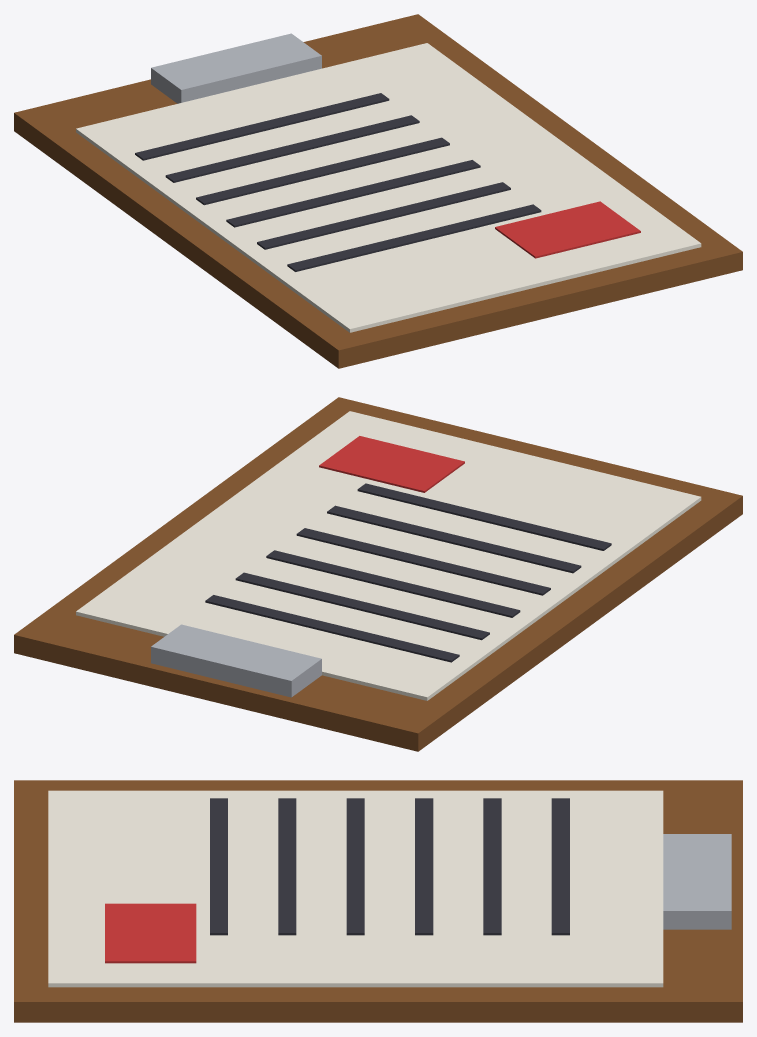
File: quality_sheet.glb
3 renders of one model, top to bottom at view 1: azimuth 30°, elevation 25°; view 2: azimuth 150°, elevation 25°; view 3: azimuth 270°, elevation 25°, orthographic. The views are drawn at different scales.
Parts seen in each view (by area): view 1: sheet_paper, board_clipboard, lines_ink (×6), clip_clip_steel, mark_ink_red; view 2: sheet_paper, board_clipboard, lines_ink (×6), clip_clip_steel, mark_ink_red; view 3: sheet_paper, board_clipboard, lines_ink (×6), clip_clip_steel, mark_ink_red.
Part boxes in pixels (x1=…): sheet_paper: x1=76, y1=43, x2=701, y2=332; board_clipboard: x1=14, y1=14, x2=742, y2=368; lines_ink (×6): x1=135, y1=93, x2=541, y2=271; clip_clip_steel: x1=151, y1=33, x2=321, y2=103; mark_ink_red: x1=495, y1=201, x2=640, y2=258; sheet_paper: x1=76, y1=411, x2=701, y2=700; board_clipboard: x1=14, y1=397, x2=742, y2=751; lines_ink (×6): x1=205, y1=483, x2=611, y2=662; clip_clip_steel: x1=151, y1=624, x2=321, y2=697; mark_ink_red: x1=319, y1=436, x2=464, y2=492; sheet_paper: x1=48, y1=790, x2=663, y2=987; board_clipboard: x1=14, y1=780, x2=742, y2=1022; lines_ink (×6): x1=210, y1=798, x2=569, y2=935; clip_clip_steel: x1=663, y1=834, x2=731, y2=929; mark_ink_red: x1=105, y1=903, x2=196, y2=963.
Size of the model in its own units: 0.23 by 0.019 by 0.32.
